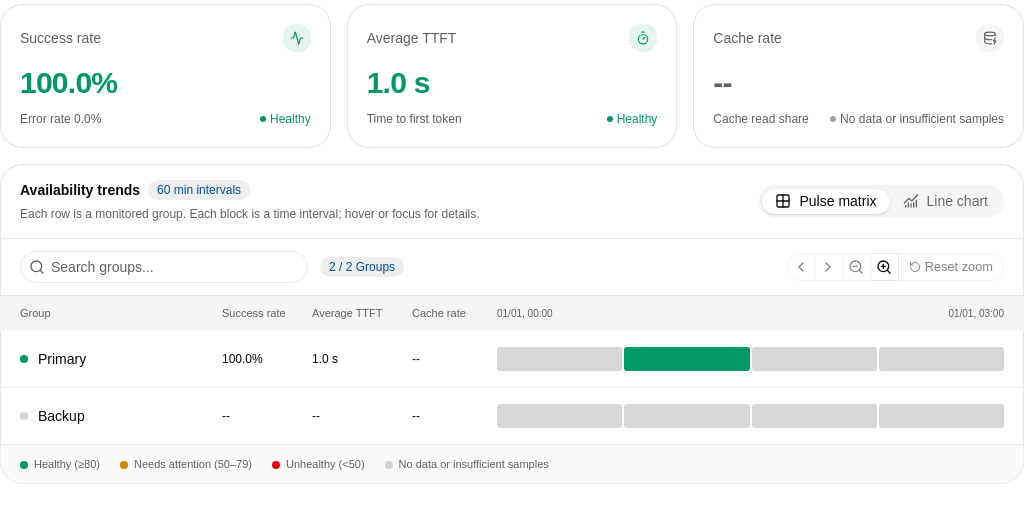
Test: channel monitoring overview › an unmatched group search offers a clear action that restores the configured groups
Type "missing" into the search field labelled "Search groups...".
click(176, 267); type("missing")  # box [45, 251, 307, 283]
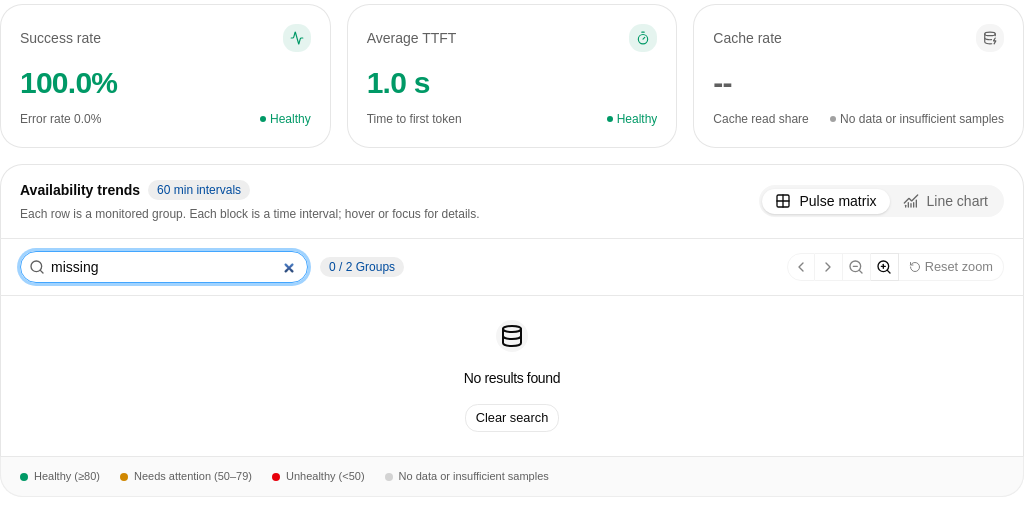
Click the button "Clear search".
click(512, 418)  # box [465, 404, 559, 432]
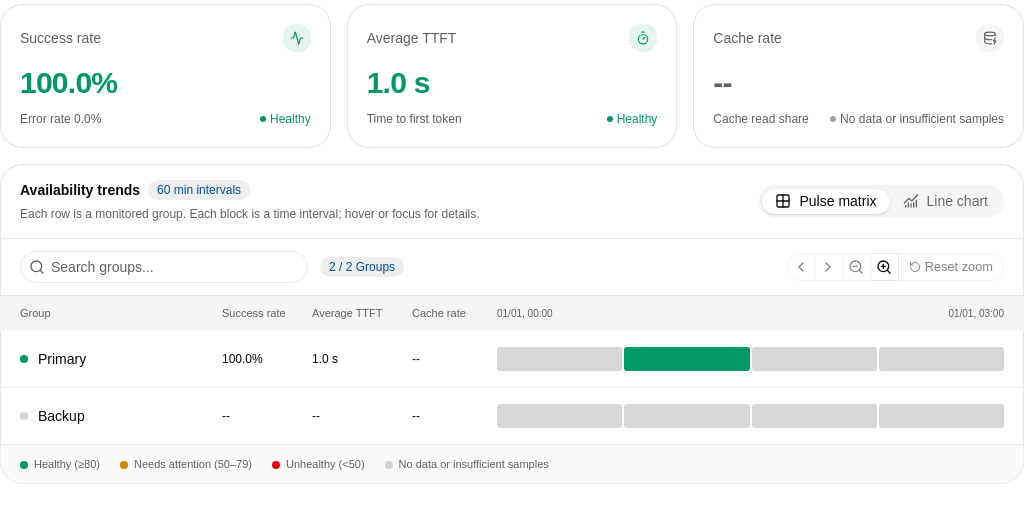
Expected: the search field labelled "Search groups..." is empty, [45, 251, 307, 283]
Expected: the cell "Primary" is shown, [20, 351, 86, 367]
Expected: the cell "Backup" is shown, [20, 408, 85, 424]
